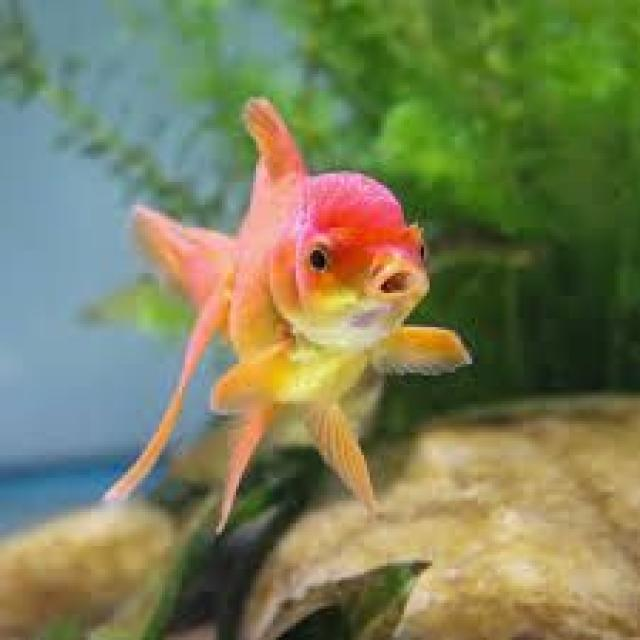Gold-Fish: (61, 74, 546, 602)
